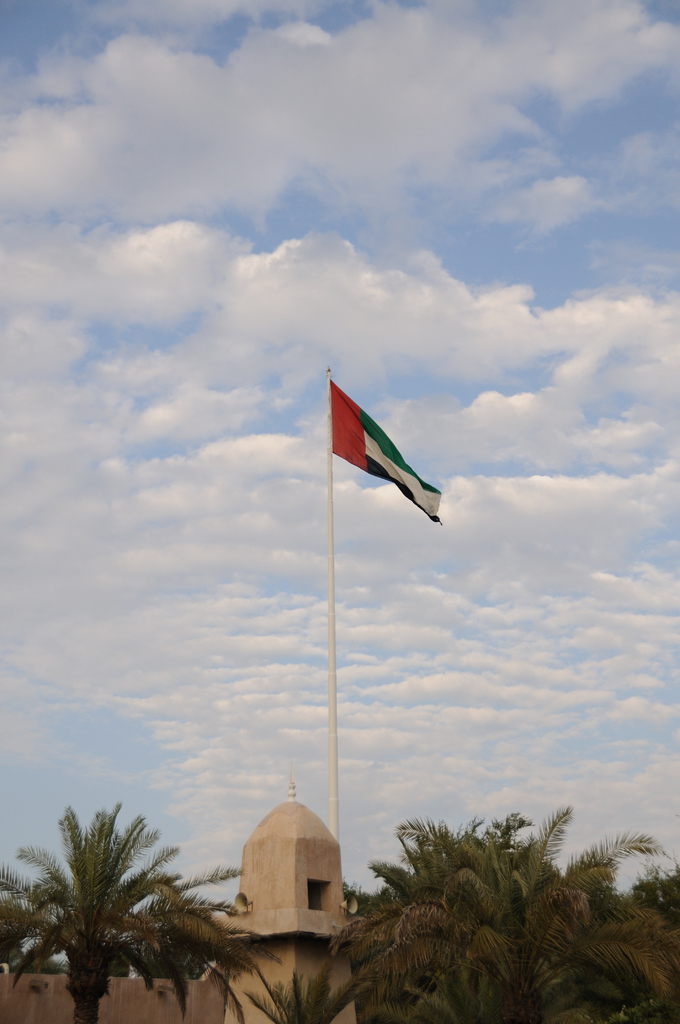Tree: (329, 803, 679, 1023), (0, 803, 202, 1023), (112, 861, 279, 1023), (234, 952, 375, 1023), (0, 857, 43, 969)
